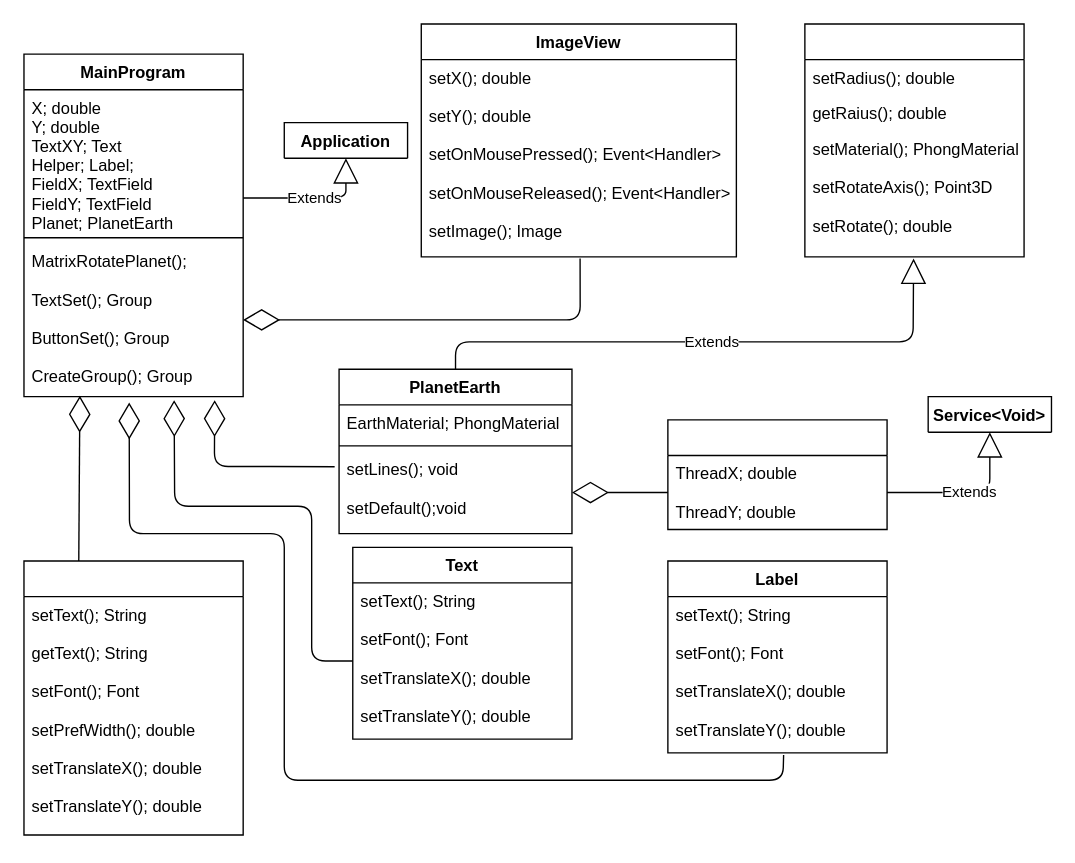
Image size: 1075x863. Some labels were removed from this diagram. Each missing label, with the box of its shape:
RotateAnimation: (667, 419, 887, 530)
Sphere: (804, 23, 1024, 257)
TextField: (23, 560, 243, 835)
